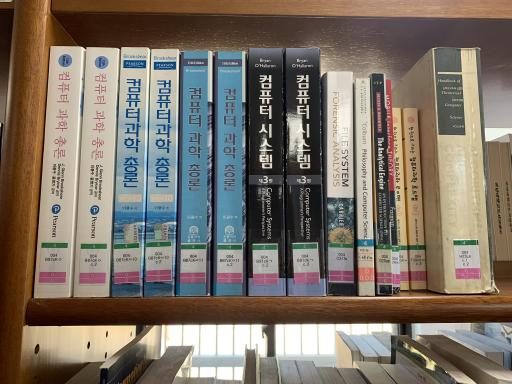book-spine: (434, 47, 495, 293), (35, 46, 82, 298), (74, 47, 119, 298), (286, 48, 325, 296), (249, 48, 286, 296), (112, 47, 148, 297), (144, 49, 179, 297), (175, 51, 210, 296), (214, 51, 246, 296), (328, 72, 356, 295), (372, 73, 393, 295), (404, 108, 427, 289), (356, 78, 375, 296), (386, 79, 401, 293), (393, 107, 410, 290)
